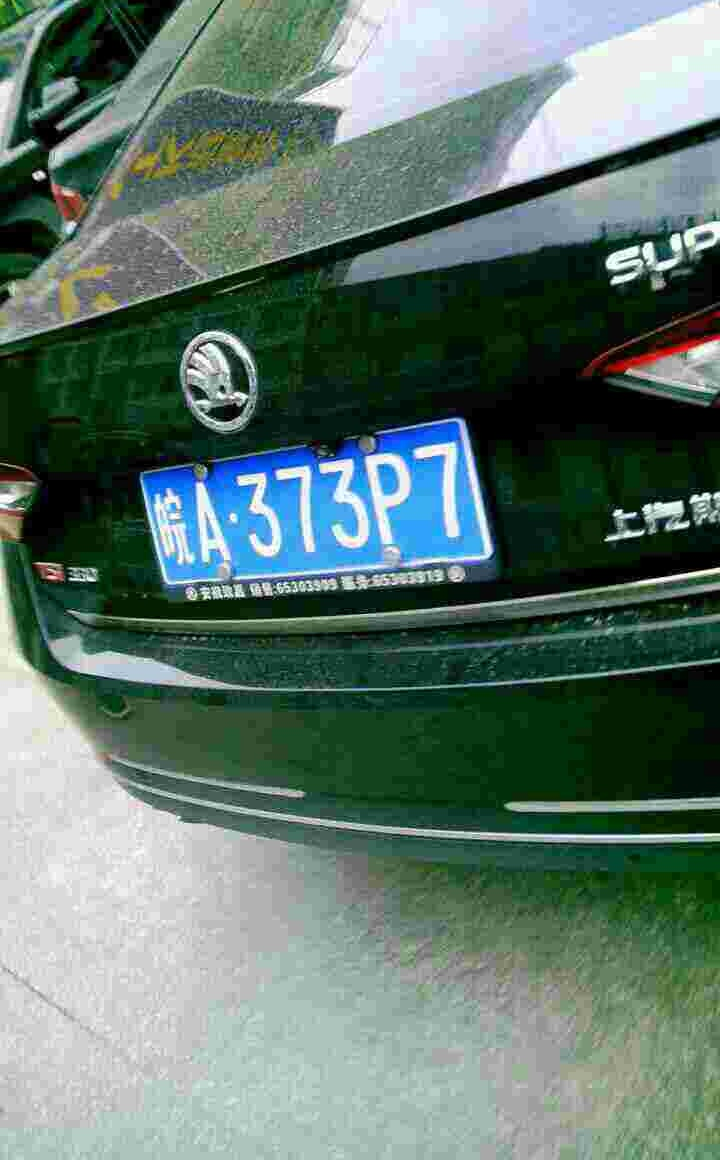car_blue: (142, 409, 498, 602)
